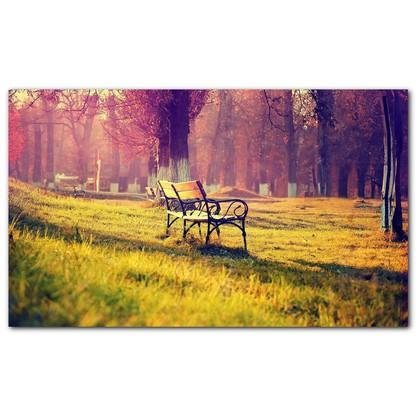obstacle: (156, 174, 253, 262)
